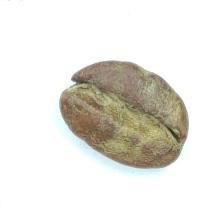NG: (80, 64, 188, 160)
